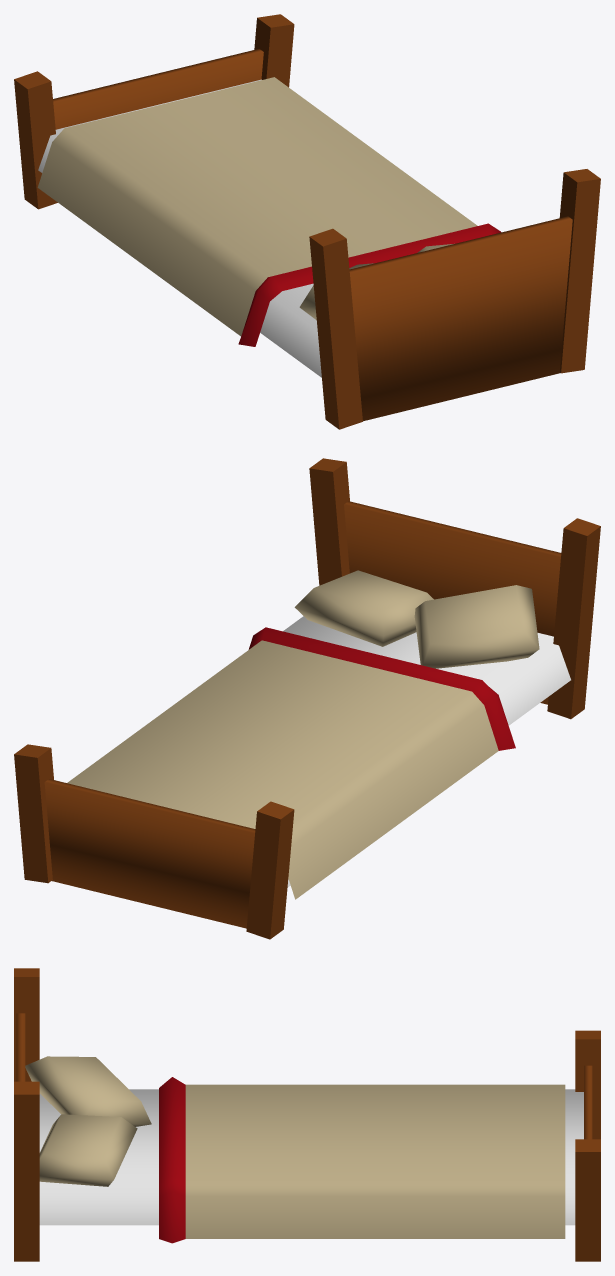
Rendered from кровать.fbx.
3 views of the same model, one above another, from view 1: azimuth 30°, elevation 25°; view 2: azimuth 150°, elevation 25°; view 3: azimuth 270°, elevation 25° (orthographic). The views are drawn at different scales.
Parts seen in each view (by area): view 1: кровать; view 2: кровать; view 3: кровать.
Part boxes in pixels (<box>): кровать: <box>14,14,600,429</box>; кровать: <box>14,458,600,939</box>; кровать: <box>14,968,600,1261</box>.
Size of the model in its own units: 95.14 by 61.95 by 187.
